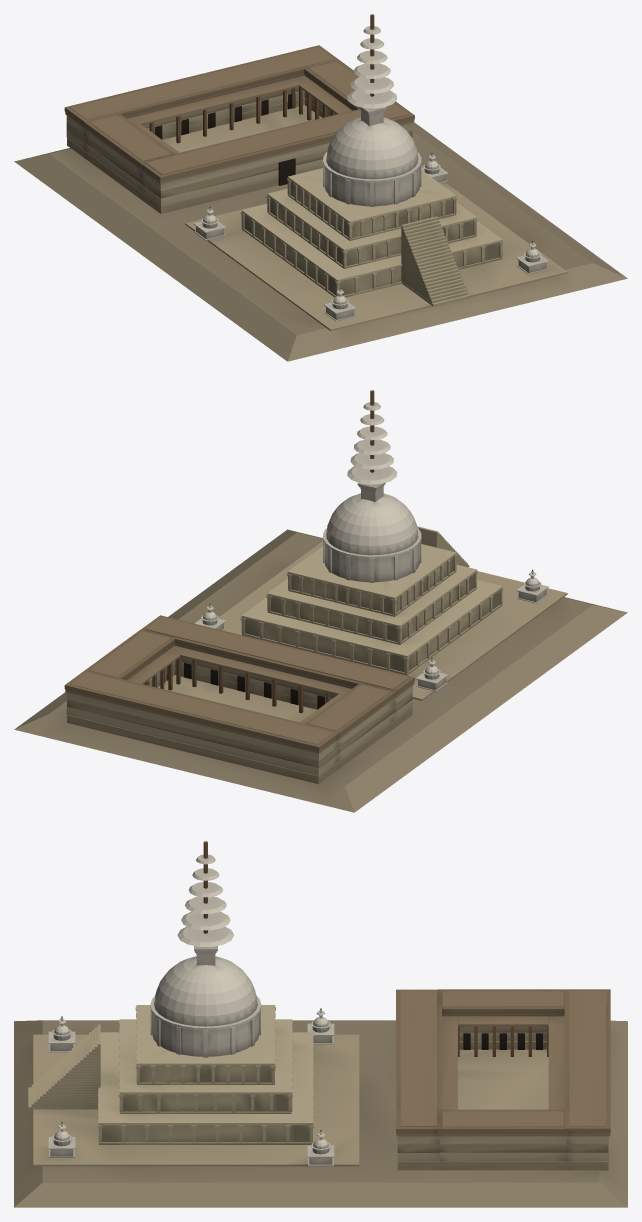
Rendered from kunala.glb.
3 views of the same model, one above another, from view 1: azimuth 30°, elevation 25°; view 2: azimuth 150°, elevation 25°; view 3: azimuth 270°, elevation 25° (orthographic). The views are drawn at different scales.
Parts seen in each view (by area): view 1: p0_ridge, p2_monastery, p1_stupa; view 2: p2_monastery, p0_ridge, p1_stupa; view 3: p0_ridge, p2_monastery, p1_stupa.
Part boxes in pixels (x1,y1,x2,y2): p0_ridge: (14, 122, 627, 361); p2_monastery: (64, 45, 548, 321); p1_stupa: (240, 14, 503, 306); p2_monastery: (64, 543, 548, 783); p0_ridge: (14, 529, 627, 812); p1_stupa: (240, 390, 503, 675); p0_ridge: (14, 1020, 627, 1207); p2_monastery: (48, 989, 610, 1170); p1_stupa: (28, 841, 313, 1144).
Size of the model in its own units: 46 by 31.33 by 64.
